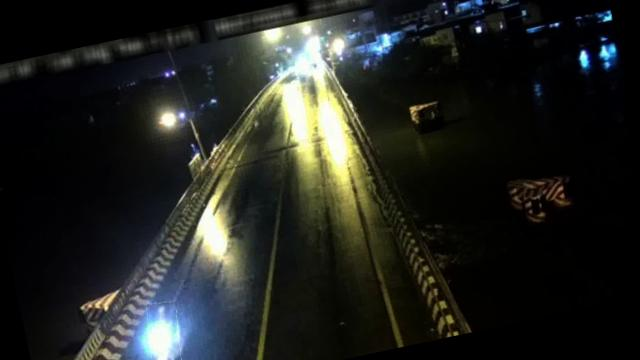Bike: (142, 299, 187, 360)
